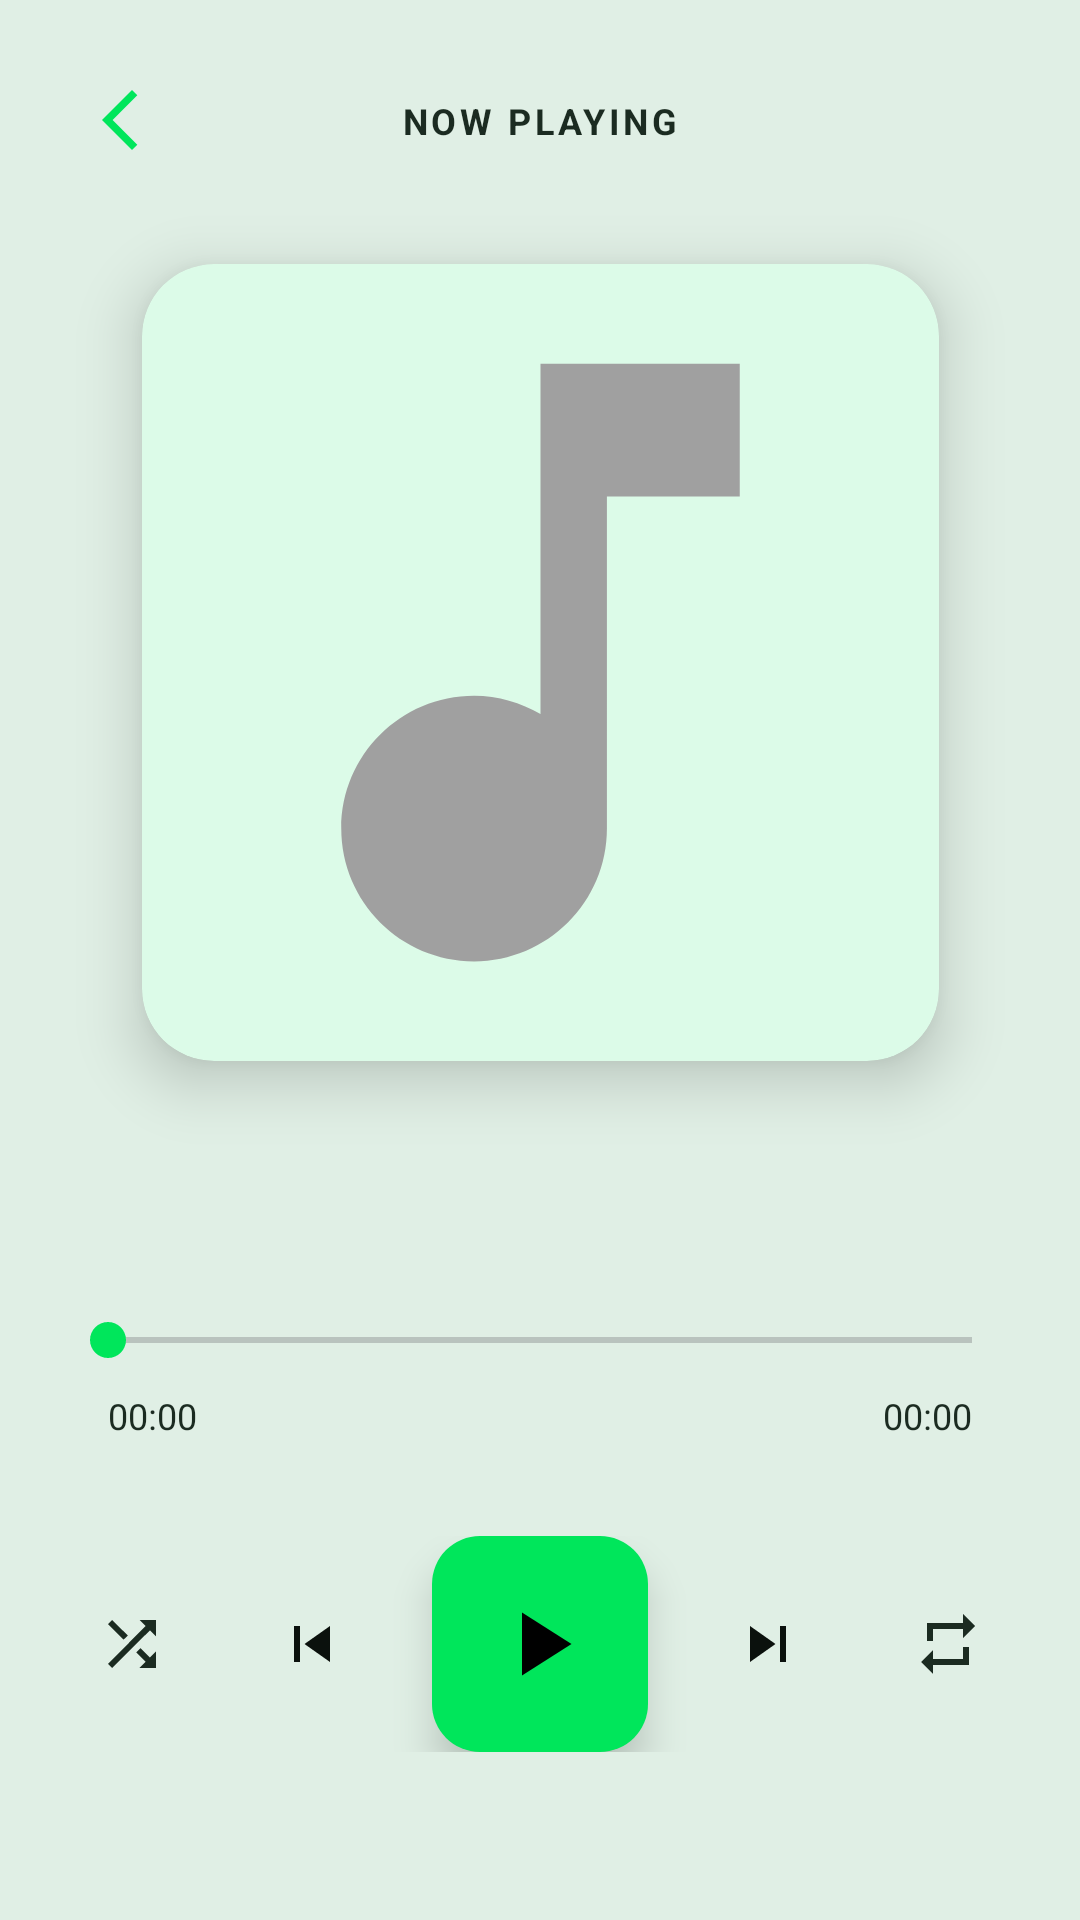

Screen size 1080×1920. Icon name, then its center in pixels as (x,y):
Back: (119,120)
next: (768,1644)
Play or Pause: (540,1644)
Pre: (312,1644)
repeat: (948,1644)
shuffle: (132,1644)
